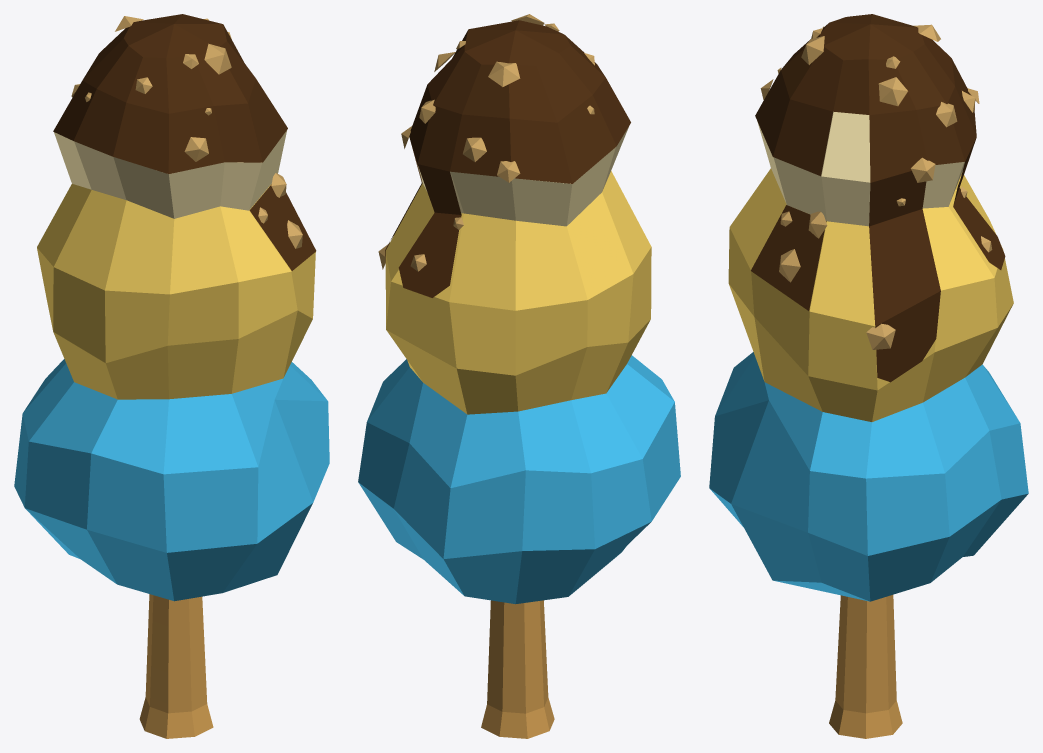
Rendered from Tree_stem_01.028.fbx.
The picture shows the model from 3 angles, left to right: view 1: azimuth 30°, elevation 25°; view 2: azimuth 150°, elevation 25°; view 3: azimuth 270°, elevation 25°; orthographic projection.
Visible parts, largest first — view 1: Tree_stem_01.028; view 2: Tree_stem_01.028; view 3: Tree_stem_01.028.
Boxes of the visible parts, x1,y1,x2,y2 form: Tree_stem_01.028: [14, 14, 329, 738]; Tree_stem_01.028: [358, 14, 680, 738]; Tree_stem_01.028: [709, 14, 1028, 738].
Bounding box in the file's own units: 154 × 359 × 149.
